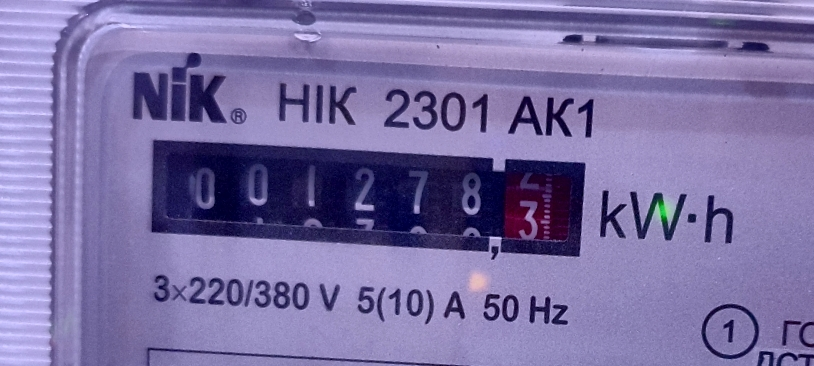0: (189, 161, 222, 212), (241, 159, 273, 209)
1: (299, 160, 324, 208)
2: (348, 165, 381, 214), (516, 169, 542, 191)
3: (512, 196, 544, 243)
7: (401, 166, 429, 215)
8: (457, 170, 486, 216)
screen: (126, 94, 610, 300)
